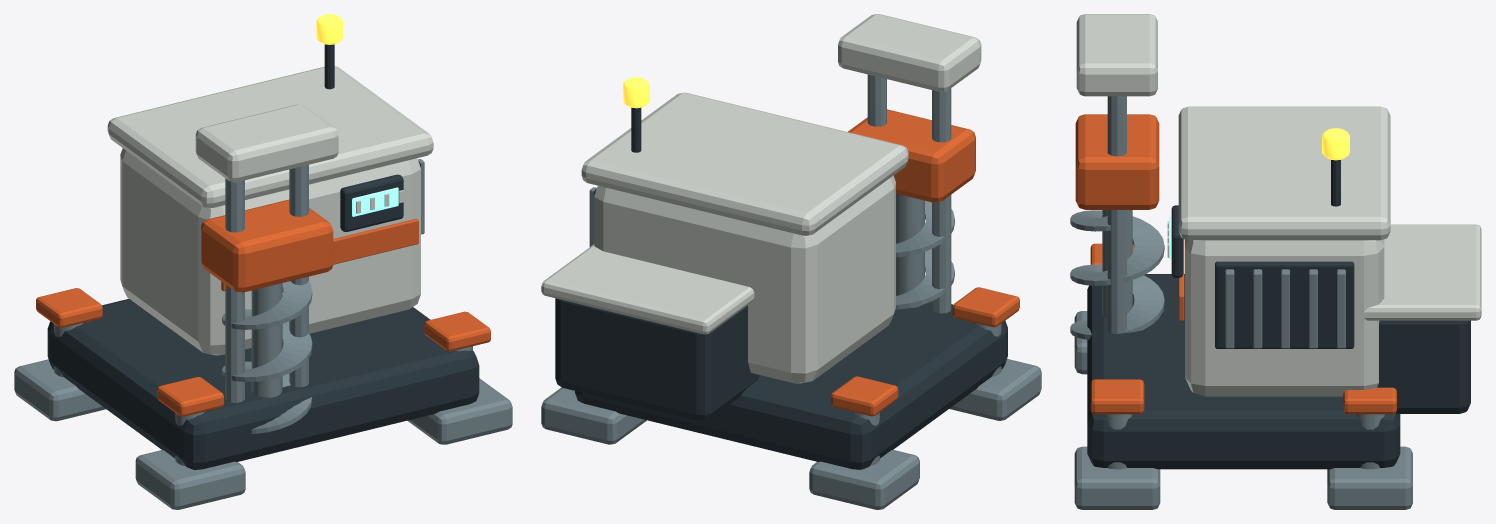
The model's file is regolith-miner.glb.
The picture shows the model from 3 angles, left to right: view 1: azimuth 30°, elevation 25°; view 2: azimuth 150°, elevation 25°; view 3: azimuth 270°, elevation 25°; orthographic projection. The views are drawn at different scales.
Visible parts, largest first — view 1: Lower chassis, Ceramic main housing, Housing cap, Drill carriage, Mast crown, Continuous helical auger, Outrigger shoe, Outrigger shoe.002, Outrigger shoe.001, Drill mast rail, Drill spindle, Orange service stripe (+7 smaller); view 2: Ceramic main housing, Housing cap, Lower chassis, Output hopper, Hopper rim, Mast crown, Drill carriage, Outrigger shoe.001, Outrigger shoe.003, Outrigger shoe, Drill mast rail, Continuous helical auger (+5 smaller); view 3: Lower chassis, Housing cap, Ceramic main housing, Hopper rim, Dark radiator recess, Output hopper, Drill carriage, Mast crown, Continuous helical auger, Outrigger shoe.002, Outrigger shoe.003, Drill mast rail.001 (+12 smaller).
Part boxes in pixels (left/top/right/bottom): Lower chassis: left=47, top=299, right=479, bottom=469; Ceramic main housing: left=120, top=148, right=420, bottom=355; Housing cap: left=107, top=66, right=433, bottom=208; Drill carriage: left=201, top=199, right=333, bottom=292; Mast crown: left=195, top=104, right=338, bottom=182; Continuous helical auger: left=222, top=281, right=312, bottom=433; Outrigger shoe: left=135, top=450, right=245, bottom=509; Outrigger shoe.002: left=407, top=378, right=512, bottom=444; Outrigger shoe.001: left=14, top=359, right=105, bottom=421; Drill mast rail: left=225, top=178, right=244, bottom=402; Drill spindle: left=251, top=283, right=282, bottom=397; Orange service stripe: left=221, top=218, right=418, bottom=291; Ceramic main housing: left=594, top=175, right=895, bottom=383; Housing cap: left=581, top=92, right=908, bottom=235; Lower chassis: left=575, top=301, right=1007, bottom=469; Output hopper: left=555, top=298, right=759, bottom=420; Hopper rim: left=541, top=244, right=754, bottom=334; Mast crown: left=838, top=14, right=981, bottom=91; Drill carriage: left=848, top=109, right=975, bottom=202; Outrigger shoe.001: left=809, top=450, right=919, bottom=509; Outrigger shoe.003: left=541, top=387, right=646, bottom=444; Outrigger shoe: left=949, top=359, right=1041, bottom=420; Drill mast rail: left=932, top=88, right=951, bottom=313; Continuous helical auger: left=895, top=200, right=954, bottom=309; Lower chassis: left=1087, top=274, right=1400, bottom=469; Housing cap: left=1178, top=106, right=1390, bottom=240; Ceramic main housing: left=1185, top=239, right=1384, bottom=396; Hopper rim: left=1358, top=224, right=1481, bottom=320; Dark radiator recess: left=1215, top=261, right=1354, bottom=348; Output hopper: left=1377, top=320, right=1470, bottom=413; Drill carriage: left=1075, top=114, right=1159, bottom=209; Mast crown: left=1076, top=14, right=1157, bottom=96; Continuous helical auger: left=1070, top=210, right=1164, bottom=339; Outrigger shoe.002: left=1074, top=446, right=1160, bottom=509; Outrigger shoe.003: left=1327, top=446, right=1412, bottom=509; Drill mast rail.001: left=1107, top=96, right=1126, bottom=333.
Size of the model in its own units: 1.92 by 1.84 by 1.92.
